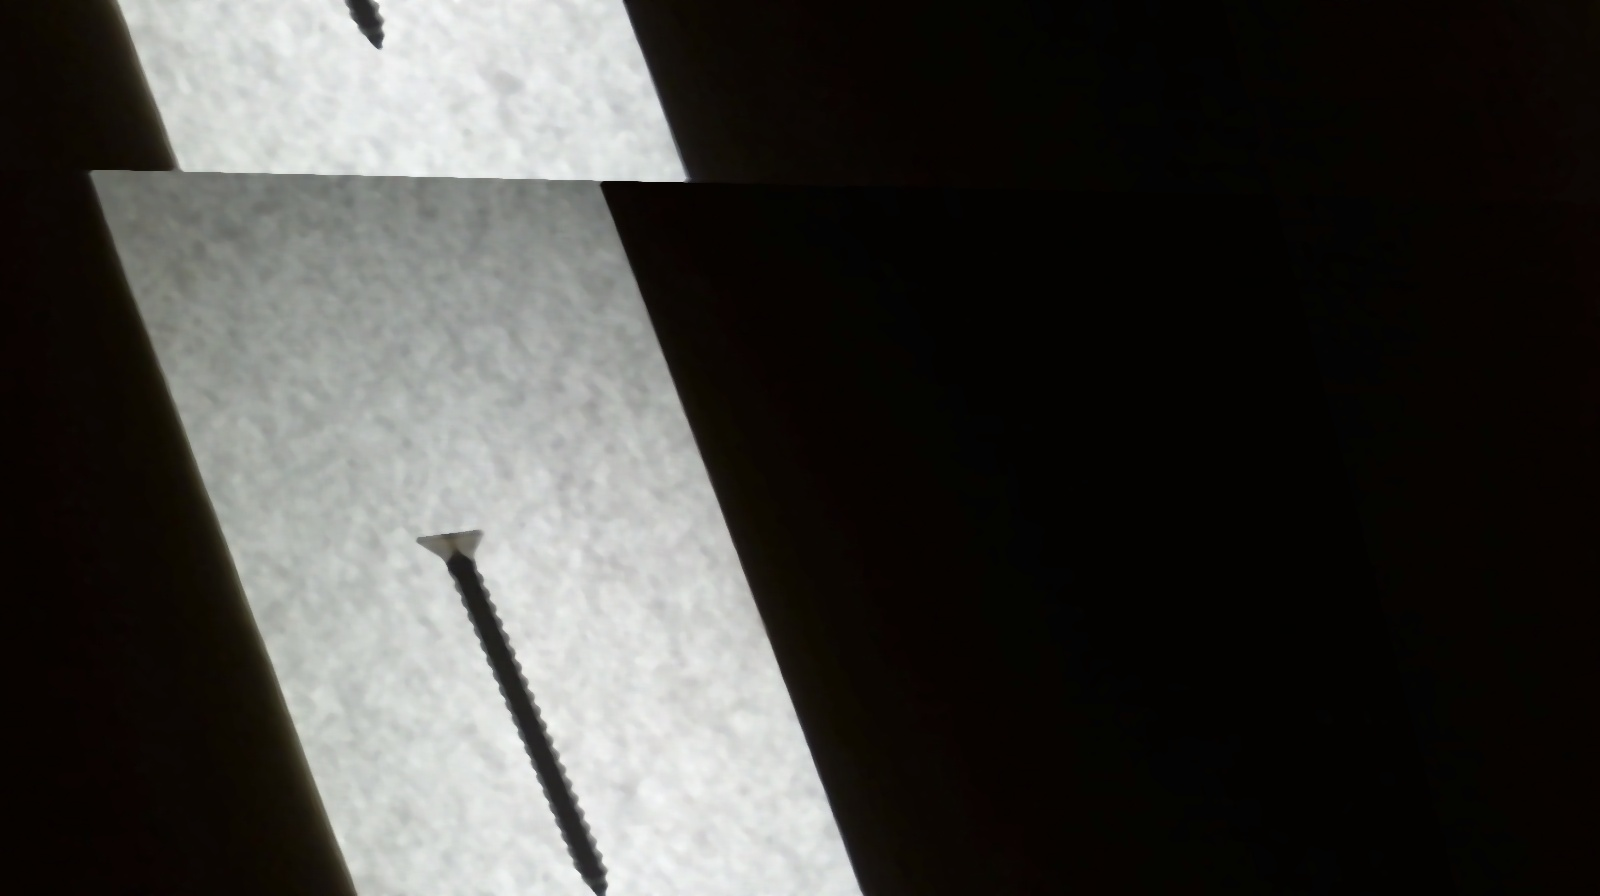S002: (376, 519, 656, 895)
